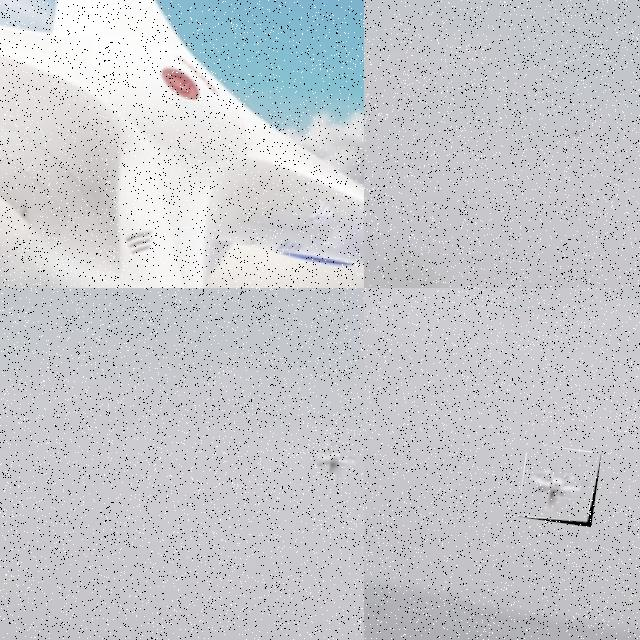drone: (0, 0, 364, 288), (518, 443, 602, 528)
